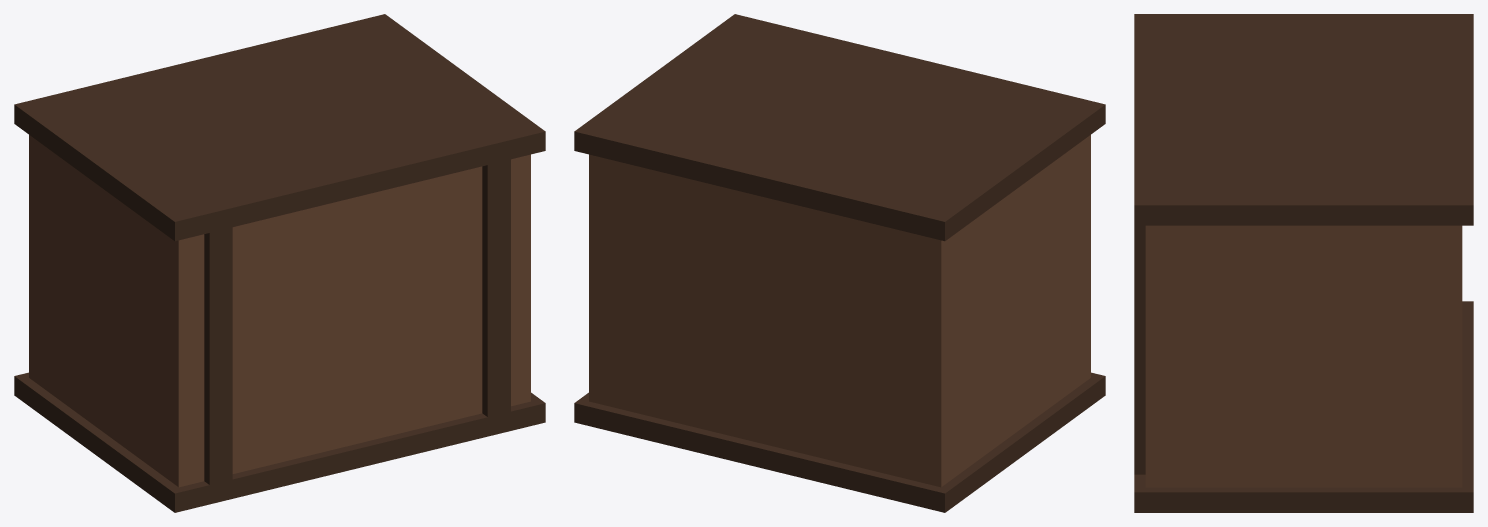
The model's file is prop_crate_4.glb.
The picture shows the model from 3 angles, left to right: view 1: azimuth 30°, elevation 25°; view 2: azimuth 150°, elevation 25°; view 3: azimuth 270°, elevation 25°; orthographic projection. The views are drawn at different scales.
Parts seen in each view (by area): view 1: PROP_Crate_4; view 2: PROP_Crate_4; view 3: PROP_Crate_4.
Boxes of the visible parts, <box> form: PROP_Crate_4: <box>14,14,545,512</box>; PROP_Crate_4: <box>574,14,1105,512</box>; PROP_Crate_4: <box>1134,14,1473,512</box>.
Bounding box in the file's own units: 0.8 × 0.6 × 0.6.
